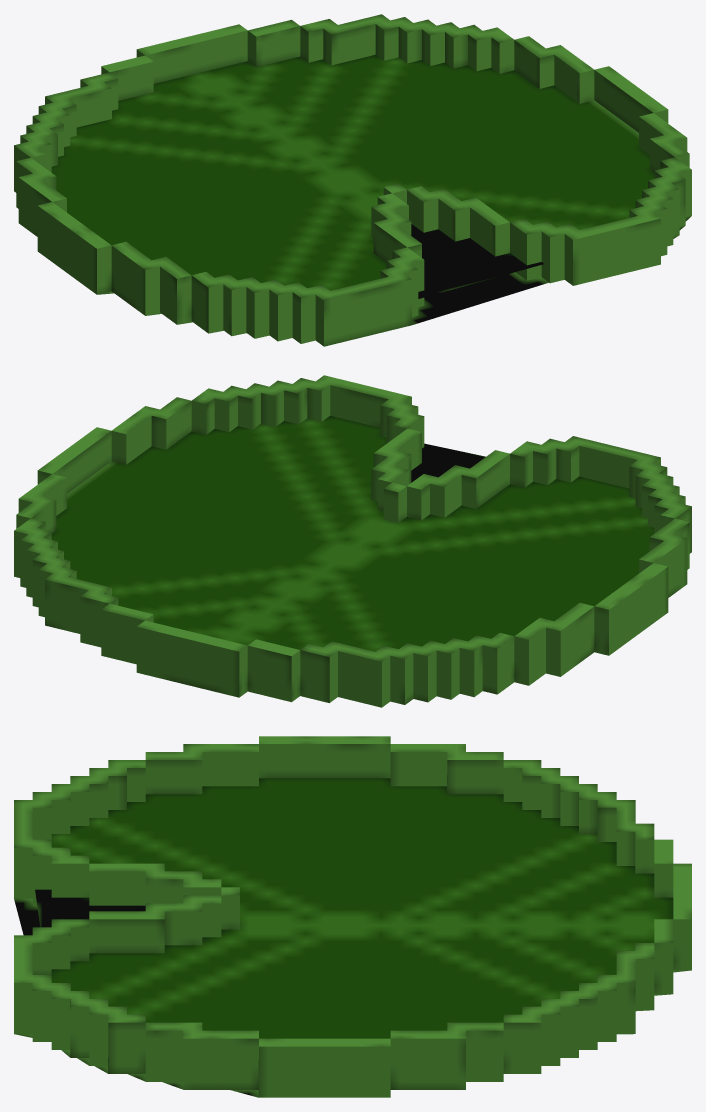
Rendered from VitRegiaPeq.fbx.
3 renders of one model, top to bottom at view 1: azimuth 30°, elevation 25°; view 2: azimuth 150°, elevation 25°; view 3: azimuth 270°, elevation 25°, orthographic. The views are drawn at different scales.
Parts seen in each view (by area): view 1: VitRegiaPeq; view 2: VitRegiaPeq; view 3: VitRegiaPeq.
Part boxes in pixels (x1,y1,x2,y2): VitRegiaPeq: (14,14,691,346); VitRegiaPeq: (14,375,691,707); VitRegiaPeq: (14,736,691,1097).
Bounding box in the file's own units: 390 × 30 × 360.
